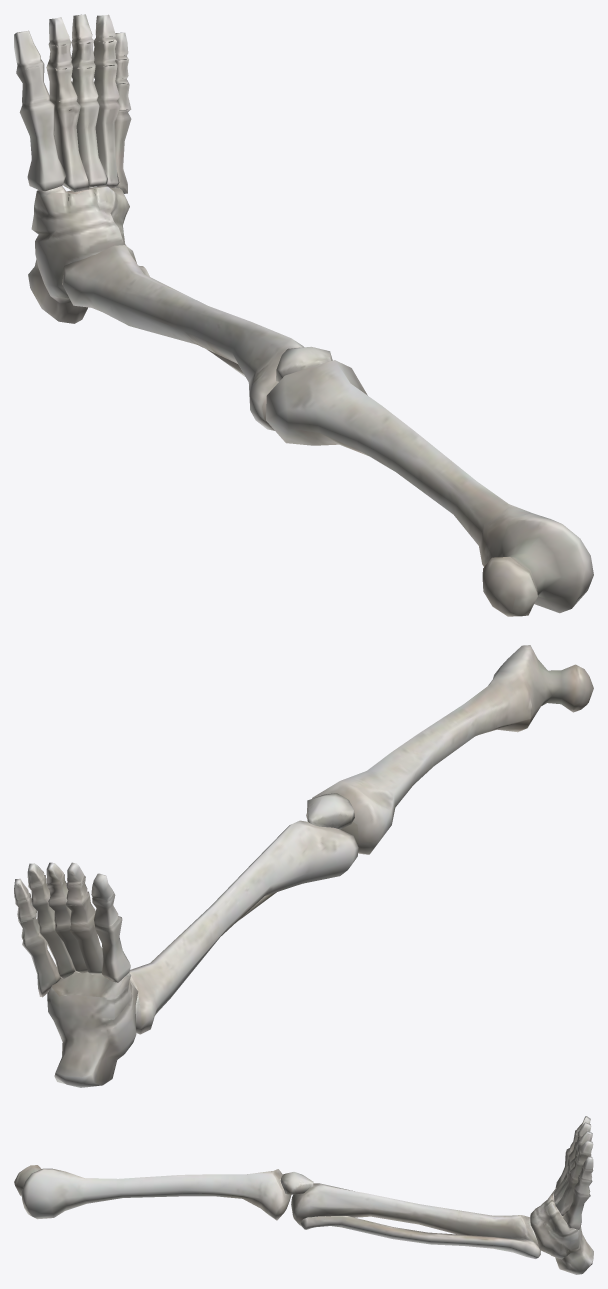
The picture shows the model from 3 angles, top to bottom: view 1: azimuth 30°, elevation 25°; view 2: azimuth 150°, elevation 25°; view 3: azimuth 270°, elevation 25°; orthographic projection. The views are drawn at different scales.
Parts seen in each view (by area): view 1: SM_Leg_R_LOD0; view 2: SM_Leg_R_LOD0; view 3: SM_Leg_R_LOD0.
Boxes of the visible parts, <box> form: SM_Leg_R_LOD0: <box>14,14,593,616</box>; SM_Leg_R_LOD0: <box>14,645,593,1087</box>; SM_Leg_R_LOD0: <box>14,1116,593,1274</box>.
Bounding box in the file's own units: 0.1801 × 0.2763 × 0.9876.
1 material, 1 textured.
